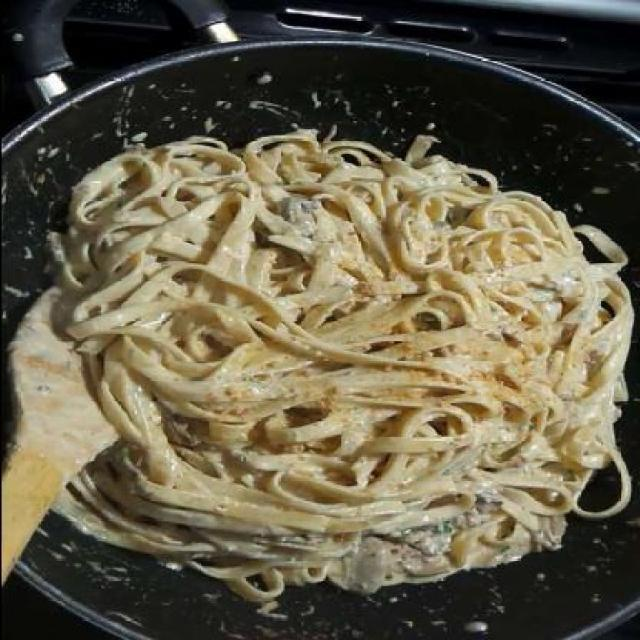Pasta: (45, 69, 630, 576)
